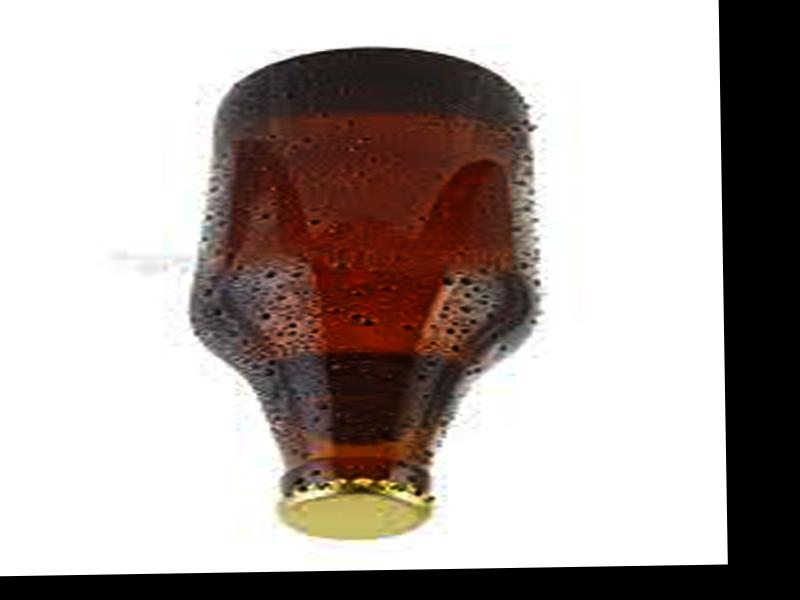Beer: (211, 47, 534, 541)
